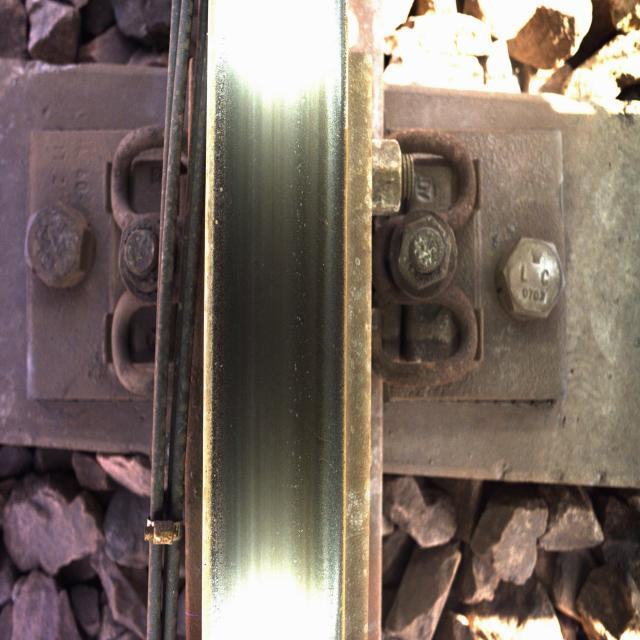break: (221, 27, 330, 615)
